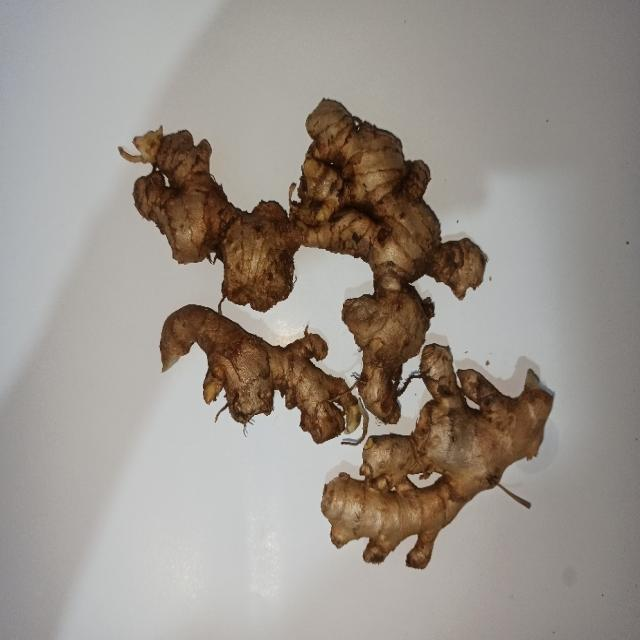ginger: (303, 104, 485, 342), (322, 377, 550, 558), (166, 303, 350, 442), (138, 138, 290, 306)
